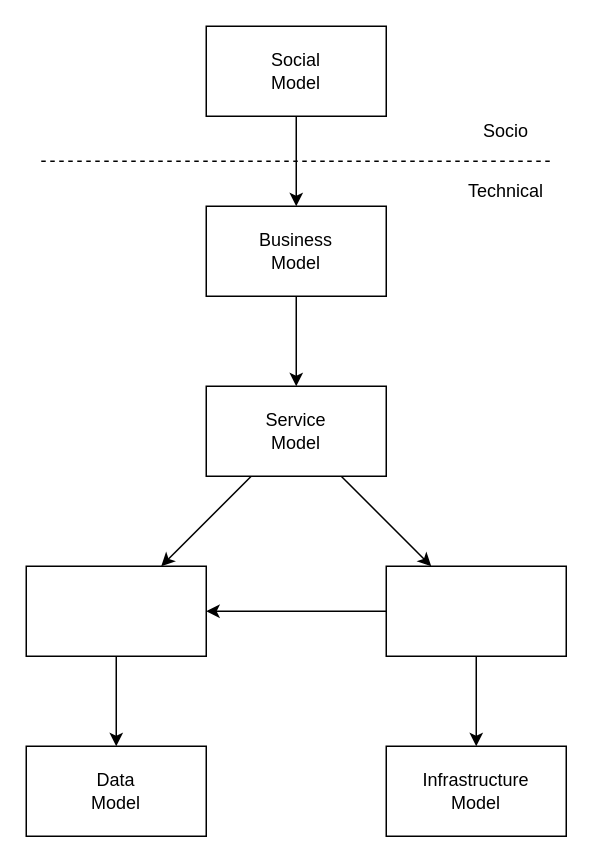
This 593x863 diagram has some shape labels left out. The box of each missing label's shape, as (x1, y1, x2, y2) in pixels:
Application Model: (25, 565, 206, 656)
Deployment Model: (385, 565, 566, 656)
